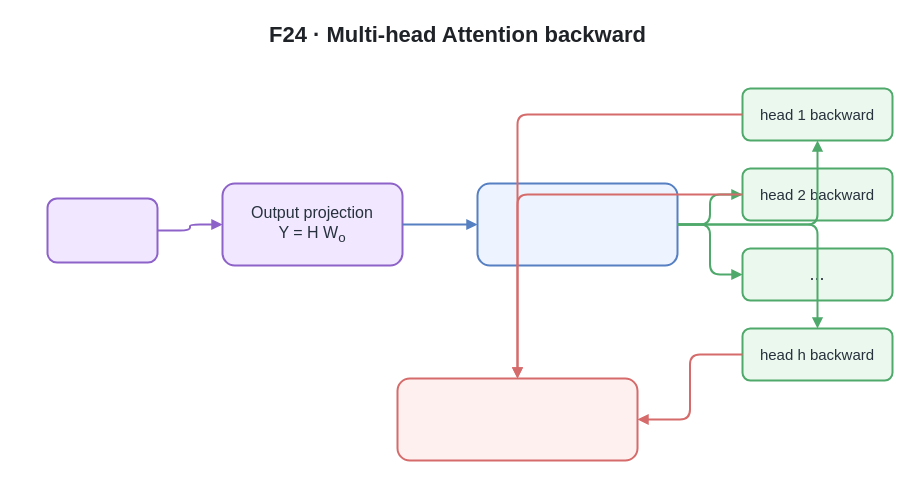
The diagram is 914 pixels wide and 478 high, and some of its shapes have lost their labels. The shapes that lost their labels are listed below. From the top down, each one's box as (x1, y1, x2, y2) in pixels, then its label:
(46, 197, 158, 263): ΔY
(476, 182, 678, 266): ΔH = ΔY W o T split by head columns
(396, 377, 638, 461): ΔX = Σ heads ΔX i shared input, gradient accumulates
